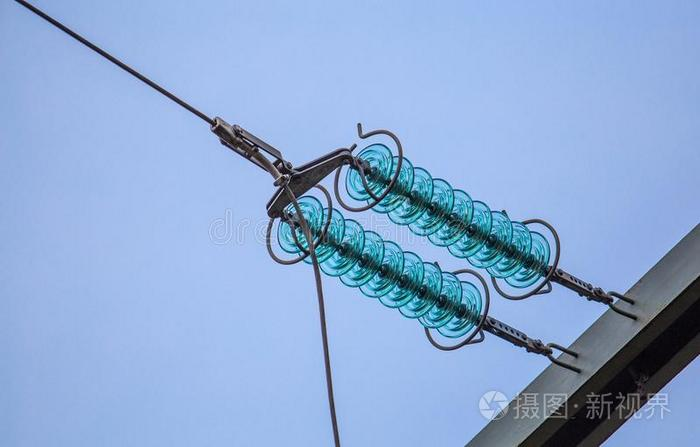insulator: (280, 192, 483, 339), (346, 141, 551, 286)
